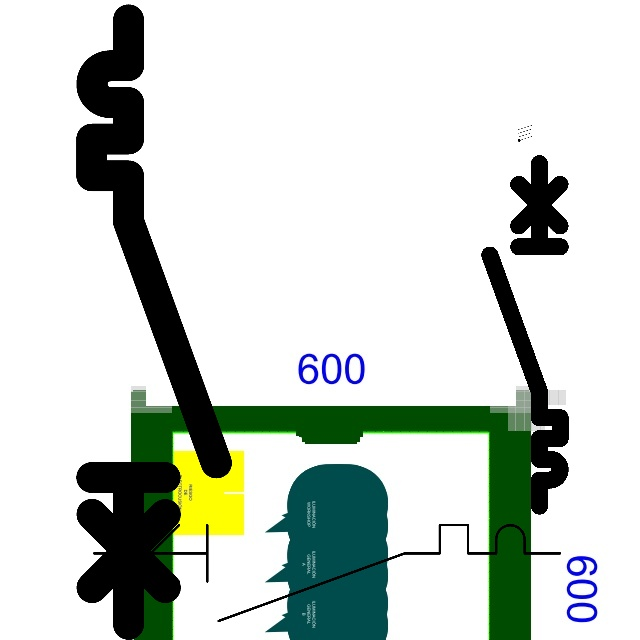interruptor_termomagnetico: (76, 4, 231, 640), (82, 513, 572, 633), (481, 154, 569, 514)
